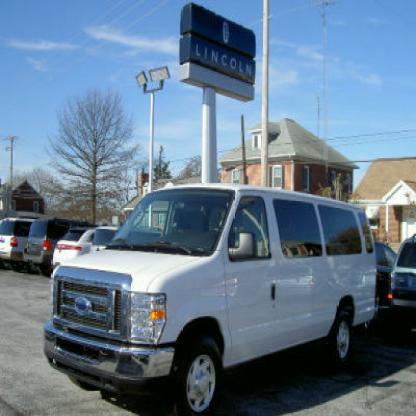Vehicle: (43, 187, 380, 415)
